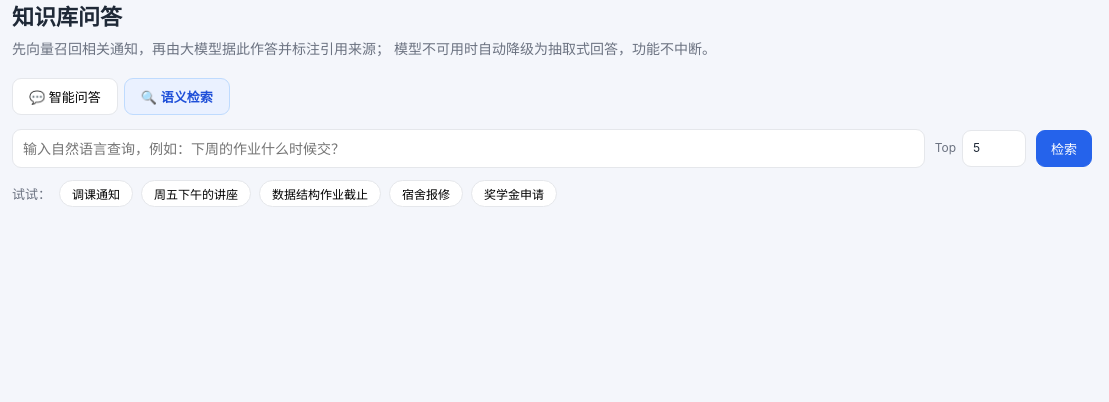
Test: Search 组件 › snippet 与 summary 相同时不重复渲染两次（短通知会整篇返回）
Type "工作坊报名什么时候截止" into the field at (468, 149), box [12, 129, 925, 168]
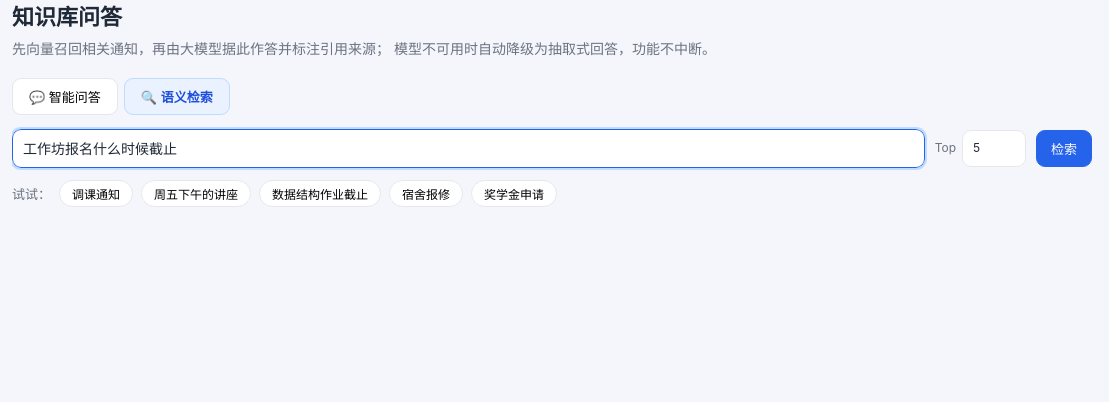
Click the button "检索" at (1064, 149), box [1036, 130, 1092, 167]
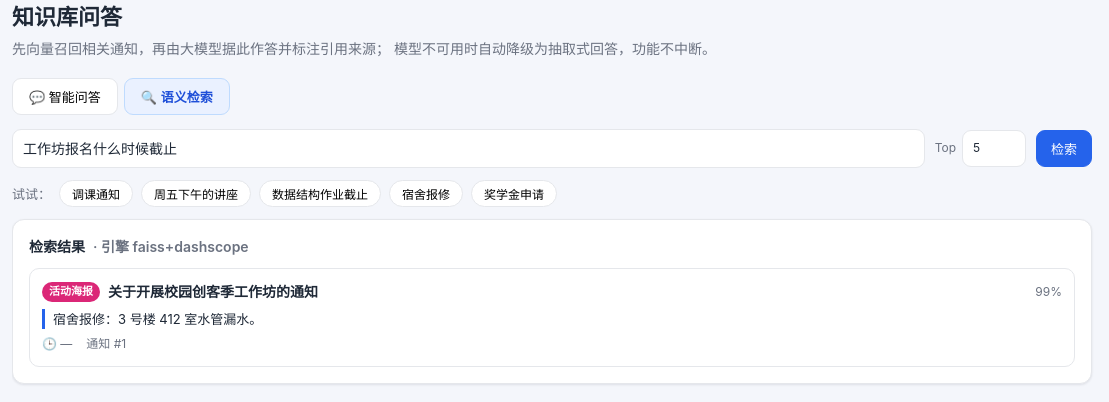
Check: the text "宿舍报修：3 号楼 412 室水管漏水。" is shown once, box [42, 309, 1062, 329]
